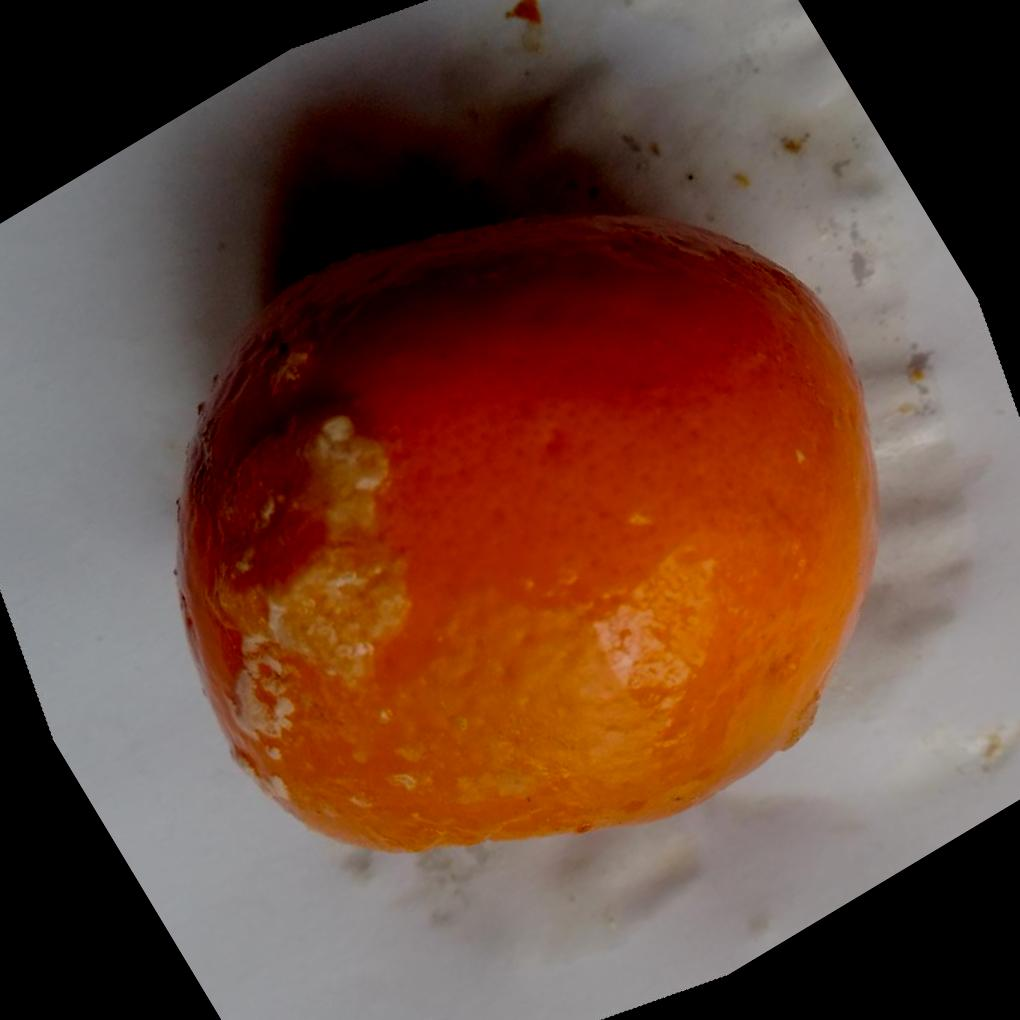FreshOrange: (176, 207, 885, 854)
